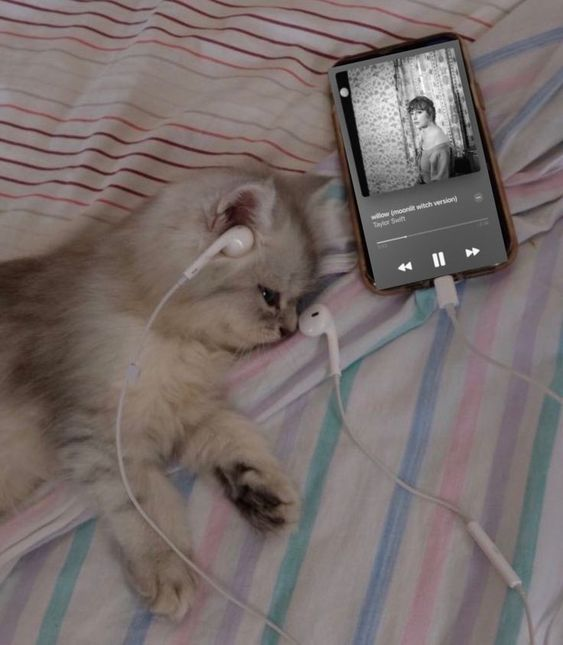cat: (1, 175, 316, 613)
